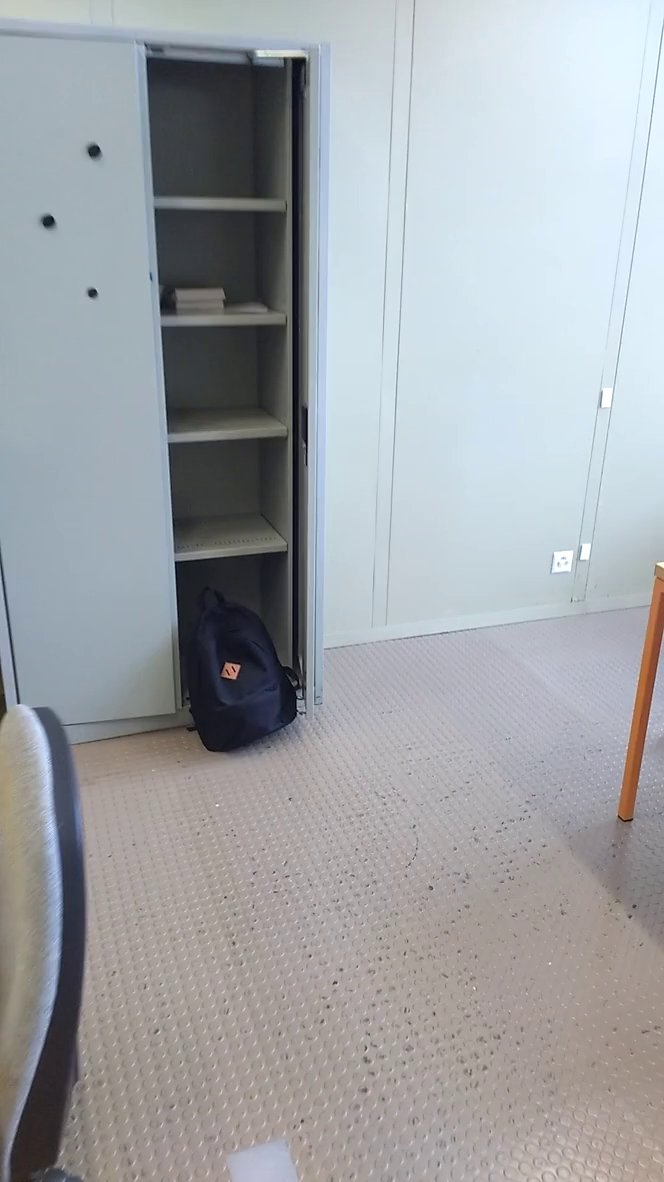bag: (176, 583, 313, 757)
chair: (1, 695, 126, 1182)
